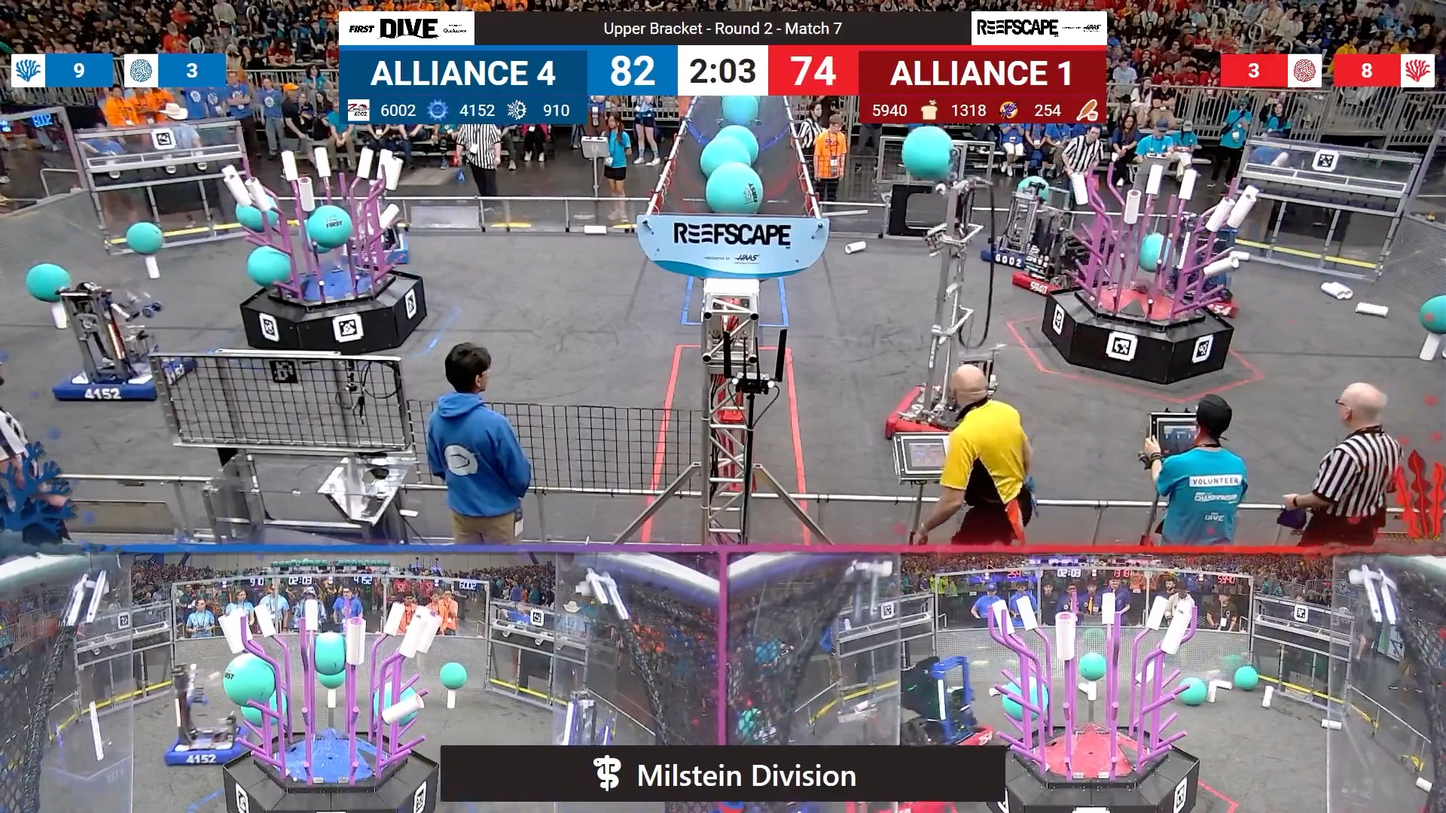bumpers: (56, 349, 197, 406), (887, 385, 978, 443), (162, 722, 255, 770), (978, 232, 1086, 273), (1000, 260, 1084, 297), (898, 717, 1000, 747)
